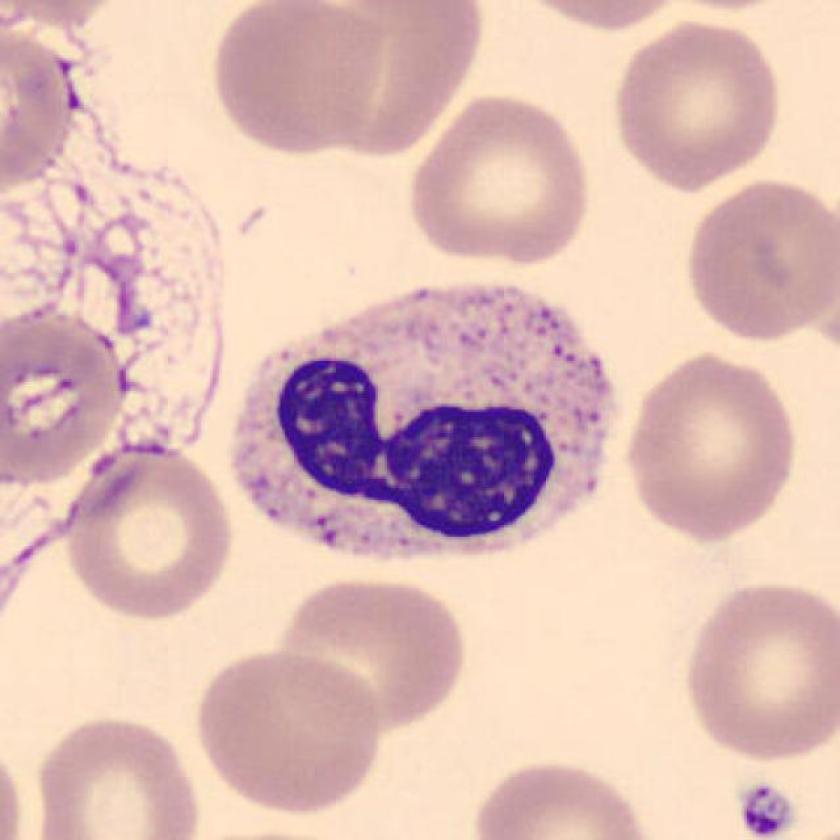neutrophil: (231, 285, 611, 562)
